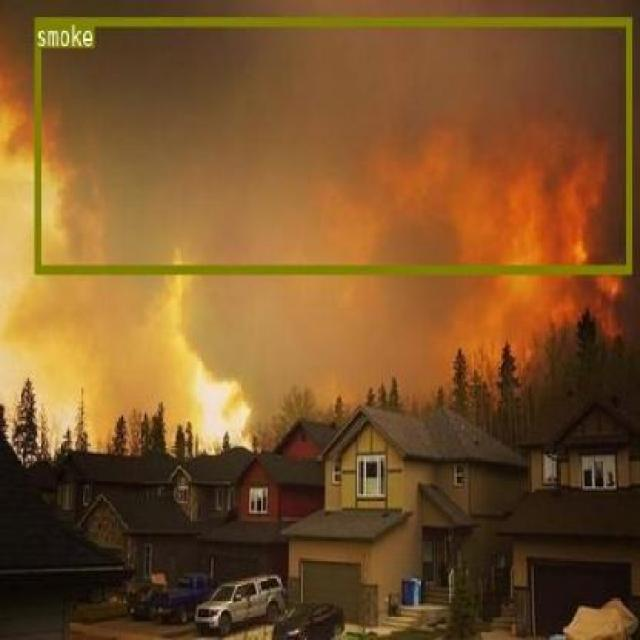Smoke: (34, 16, 631, 272)
